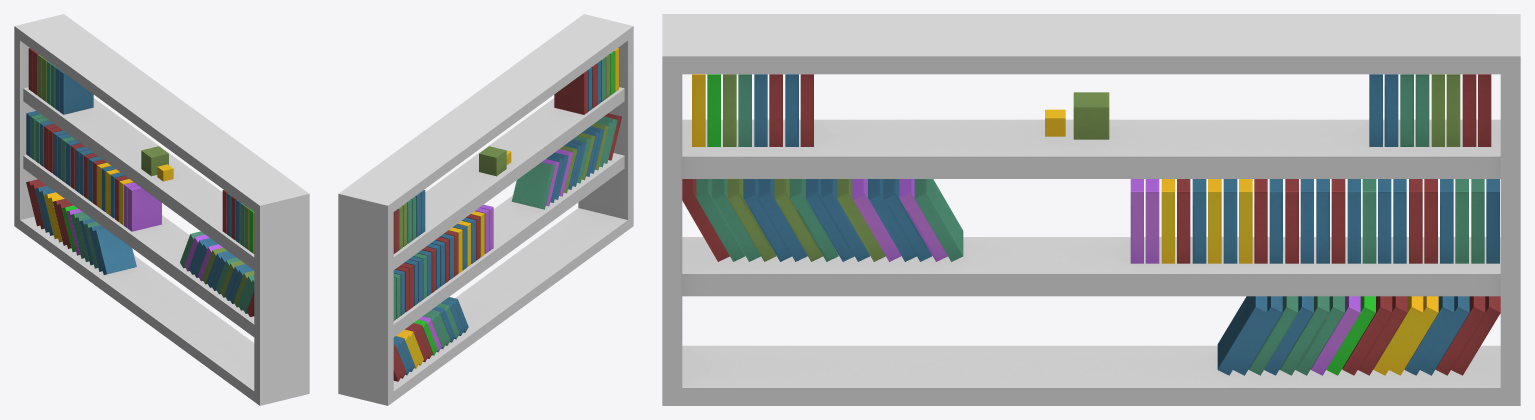
Rendered from bookshelves02.fbx.
3 views of the same model, side by side, from view 1: azimuth 30°, elevation 25°; view 2: azimuth 150°, elevation 25°; view 3: azimuth 270°, elevation 25° (orthographic). The views are drawn at different scales.
Parts seen in each view (by area): view 1: polySurface172; view 2: polySurface172; view 3: polySurface172.
Part boxes in pixels (x1,y1,x2,y2): polySurface172: (14, 14, 309, 405); polySurface172: (338, 14, 633, 405); polySurface172: (662, 14, 1520, 405).
Bounding box in the file's own units: 6.03 × 23.23 × 51.67.
1 material, 1 textured.
